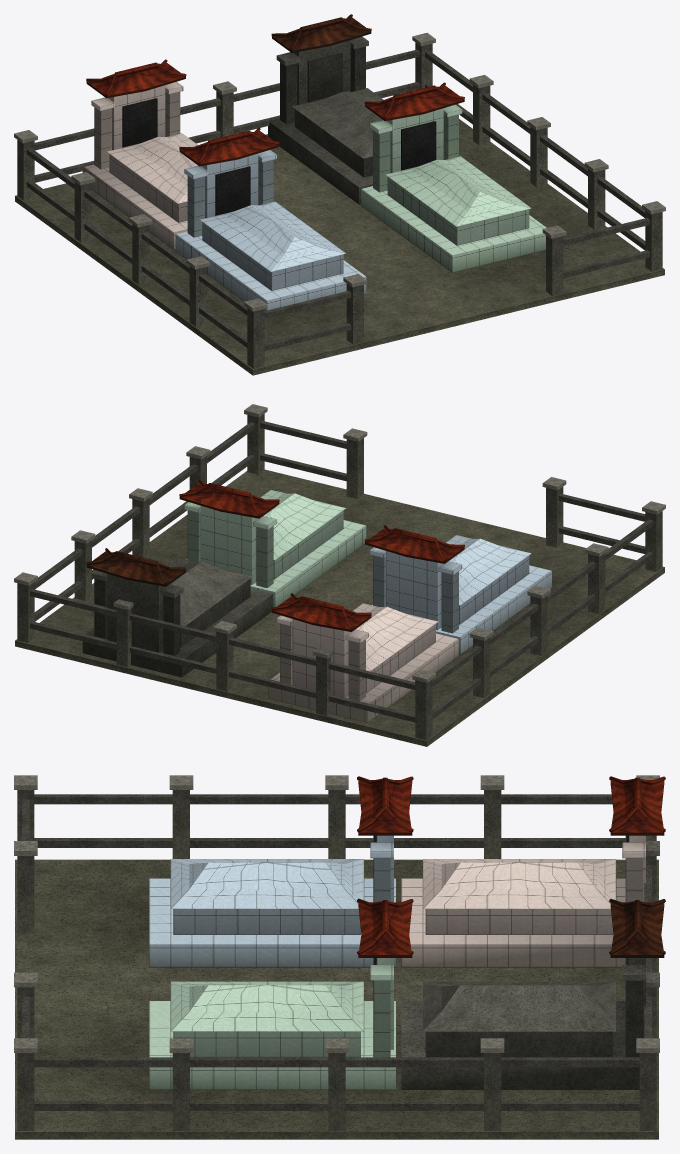
File: grave.glb
3 views of the same model, one above another, from view 1: azimuth 30°, elevation 25°; view 2: azimuth 150°, elevation 25°; view 3: azimuth 270°, elevation 25° (orthographic). The views are drawn at different scales.
Visible parts, largest first — view 1: grave_mesh; view 2: grave_mesh; view 3: grave_mesh.
Part boxes in pixels (left/top/right/bottom): grave_mesh: left=14, top=14, right=665, bottom=375; grave_mesh: left=14, top=404, right=665, bottom=746; grave_mesh: left=14, top=775, right=665, bottom=1139.
Size of the model in its own units: 6.02 by 1.56 by 6.08.
5 materials, 5 textured.
